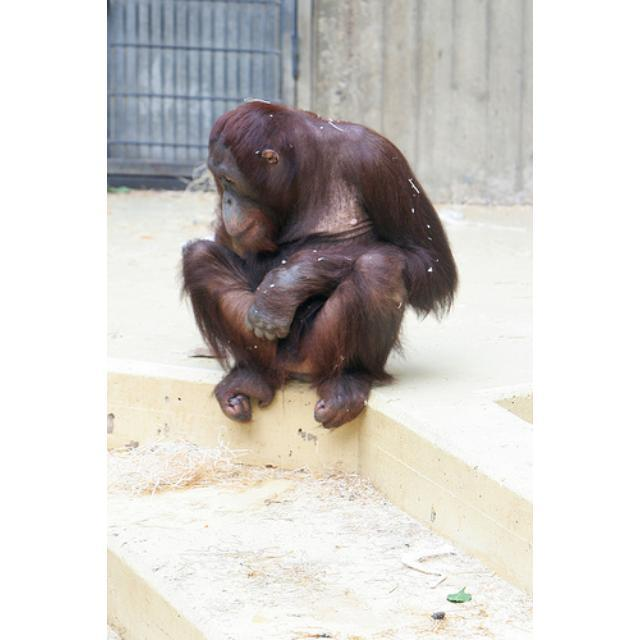Orangutan: (155, 90, 472, 436)
